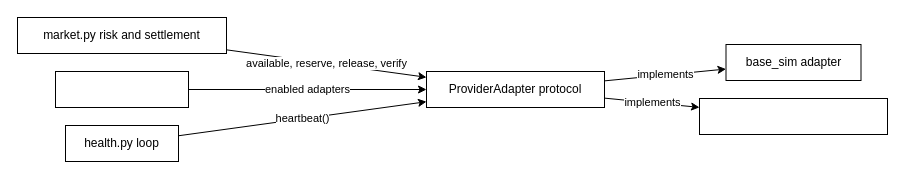
The diagram is 905 pixels wide and 179 high, and some of its shapes have lost their labels. Each missing label, with the centre of its shape:
lonestar adapter (phase 2): pixel 793 116
providers registry: pixel 121 89
